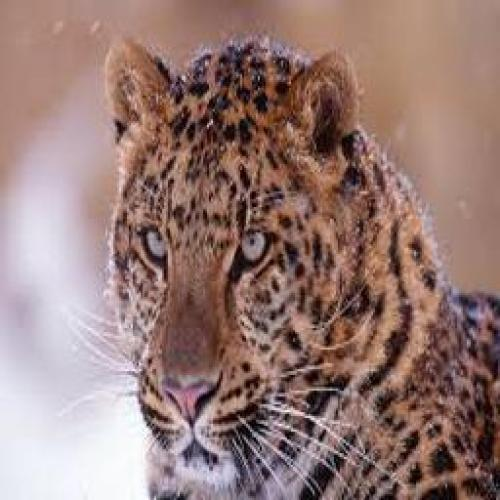amur_leopard-endangered: (106, 32, 500, 500)
